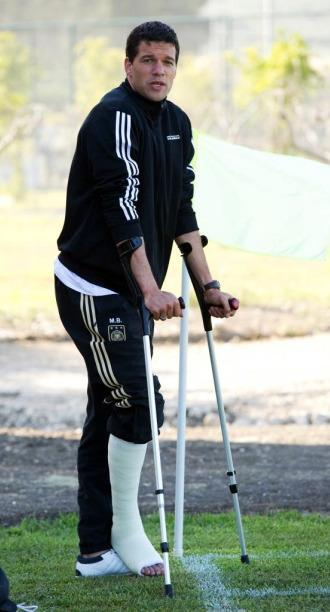crutches: (55, 11, 255, 593)
